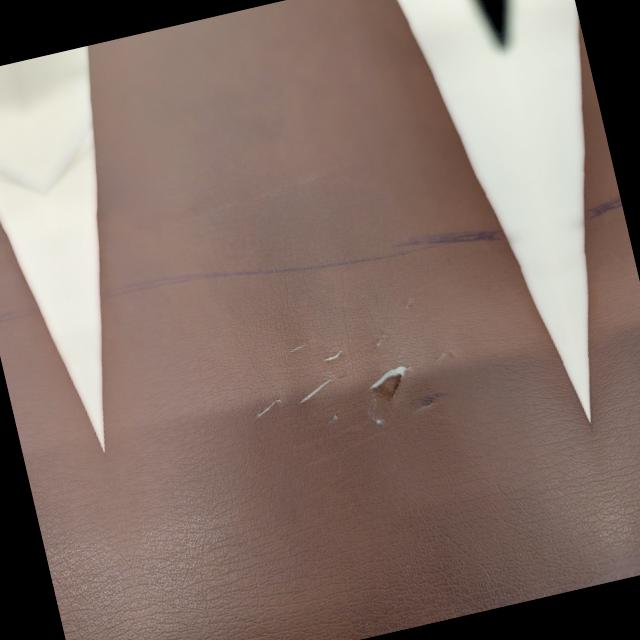belt_crack: (200, 245, 505, 473)
